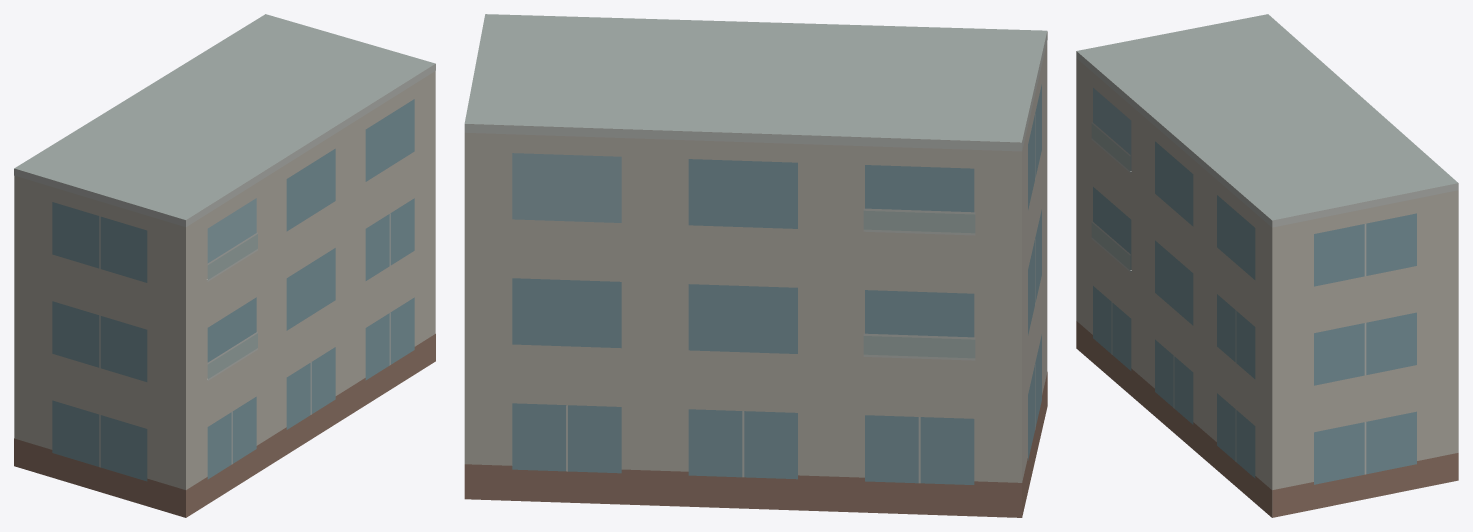
Rendered from survey-upis-32731904.glb.
The picture shows the model from 3 angles, left to right: view 1: azimuth 30°, elevation 25°; view 2: azimuth 150°, elevation 25°; view 3: azimuth 270°, elevation 25°; orthographic projection. The views are drawn at different scales.
Parts seen in each view (by area): view 1: survey-upis-32731904.tmp; view 2: survey-upis-32731904.tmp; view 3: survey-upis-32731904.tmp.
Part boxes in pixels (x1,y1,x2,y2): survey-upis-32731904.tmp: [14, 14, 435, 517]; survey-upis-32731904.tmp: [464, 14, 1047, 517]; survey-upis-32731904.tmp: [1076, 14, 1458, 517].
Size of the model in its own units: 15.2 by 10.2 by 11.89.
